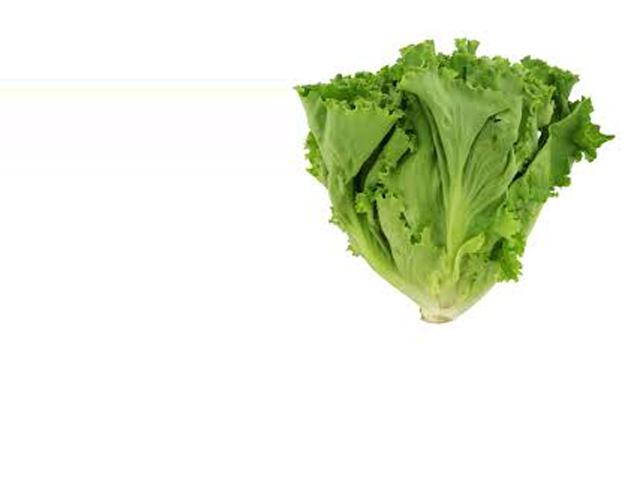lettuce: (291, 25, 597, 331)
